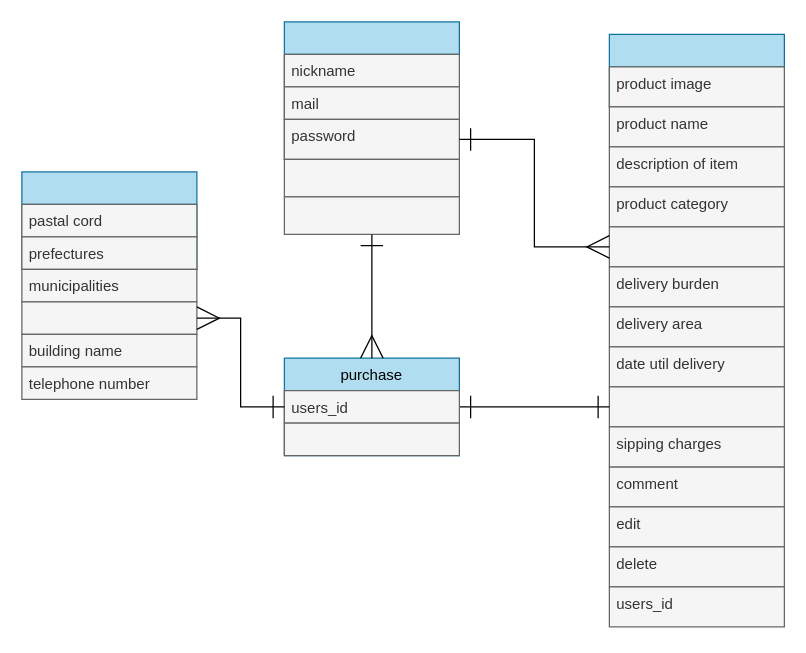
The diagram is 806 pixels wide and 653 high, and some of its shapes have lost their labels. The box of each missing label's shape, as (x1, y1, x2, y2) in pixels:
address: (21, 301, 197, 334)
birthday: (283, 196, 459, 234)
items: (608, 33, 784, 107)
items_id: (283, 422, 459, 456)
name: (283, 158, 459, 197)
product status: (608, 226, 784, 267)
selling price: (608, 386, 784, 427)
shipping addres: (21, 171, 197, 269)
users: (283, 21, 459, 159)
